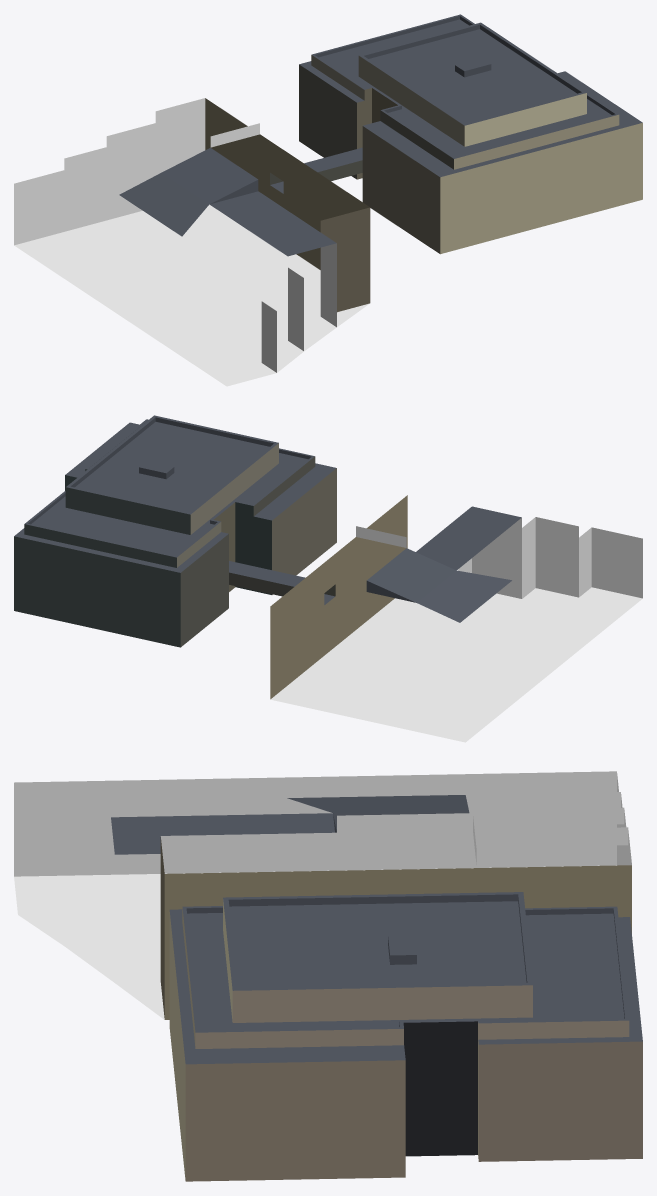
The model's file is unum-provident.glb.
The picture shows the model from 3 angles, top to bottom: view 1: azimuth 30°, elevation 25°; view 2: azimuth 150°, elevation 25°; view 3: azimuth 270°, elevation 25°; orthographic projection. The views are drawn at different scales.
Visible parts, largest first — view 1: LOD0; view 2: LOD0; view 3: LOD0.
Part boxes in pixels (bbox=[...]): LOD0: bbox=[14, 14, 642, 386]; LOD0: bbox=[14, 415, 642, 742]; LOD0: bbox=[14, 771, 642, 1181].
Size of what is drawn, in the model's own units: 174 by 47.05 by 128.
2 materials, 2 textured.
